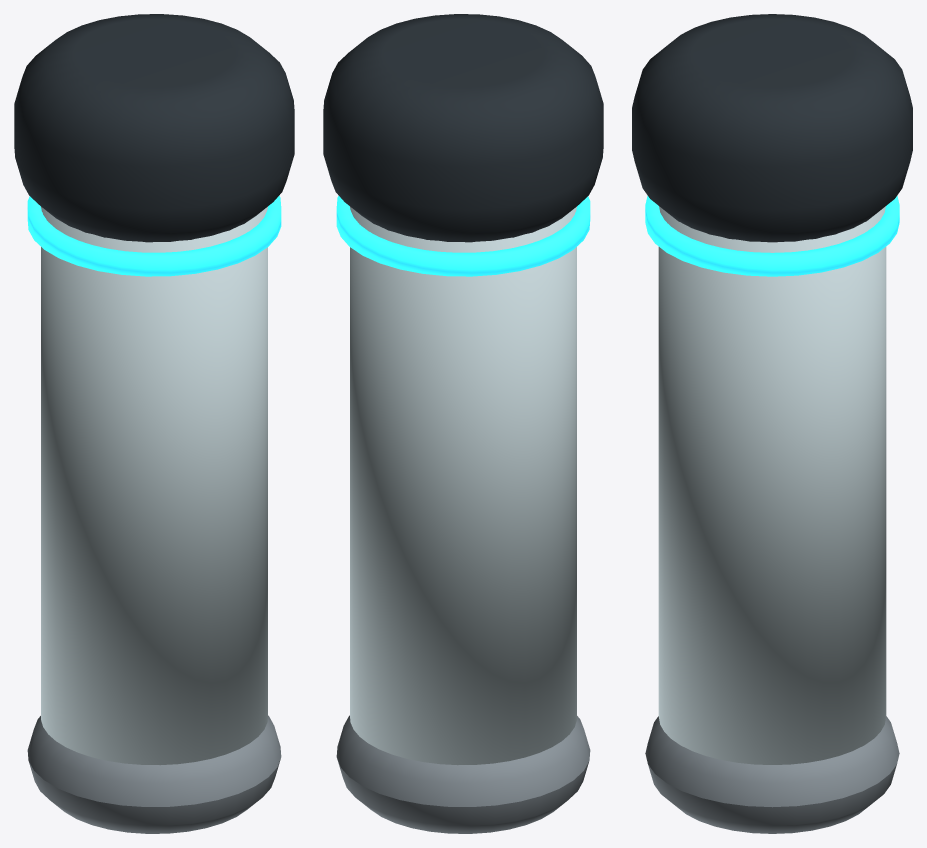
File: ZH_PROP_LAB_SampleVial.fbx
The picture shows the model from 3 angles, left to right: view 1: azimuth 30°, elevation 25°; view 2: azimuth 150°, elevation 25°; view 3: azimuth 270°, elevation 25°; orthographic projection.
Visible parts, largest first — view 1: Vial | glass.001, Vial | cap.001, Vial | foot.001, Vial | ring.001; view 2: Vial | glass.001, Vial | cap.001, Vial | foot.001, Vial | ring.001; view 3: Vial | glass.001, Vial | cap.001, Vial | foot.001, Vial | ring.001.
Part boxes in pixels (x1,y1,x2,y2): Vial | glass.001: [41, 206, 267, 765]; Vial | cap.001: [14, 14, 294, 242]; Vial | foot.001: [27, 715, 281, 833]; Vial | ring.001: [27, 196, 281, 276]; Vial | glass.001: [350, 206, 576, 765]; Vial | cap.001: [323, 14, 603, 242]; Vial | foot.001: [336, 715, 590, 833]; Vial | ring.001: [336, 196, 590, 276]; Vial | glass.001: [658, 206, 886, 764]; Vial | cap.001: [632, 14, 912, 242]; Vial | foot.001: [645, 716, 899, 833]; Vial | ring.001: [645, 196, 899, 276].
Size of the model in its own units: 0.042 by 0.1225 by 0.042.
